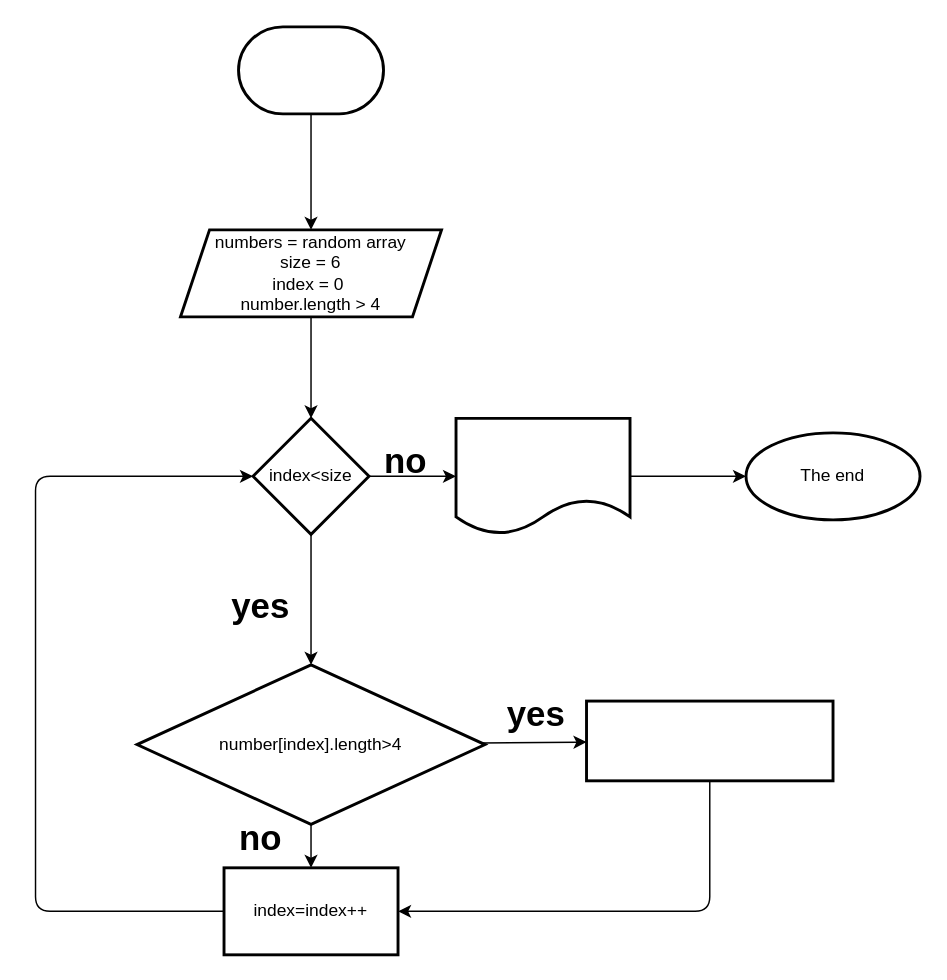
Image size: 947x980. Some labels were removed from this diagram. Each missing label, with the centre of its shape:
"number[index]=new.numbers[]" belongs at (x=709, y=740).
"Print new.numbers[]" belongs at (x=542, y=475).
"Start" belongs at (x=310, y=70).
